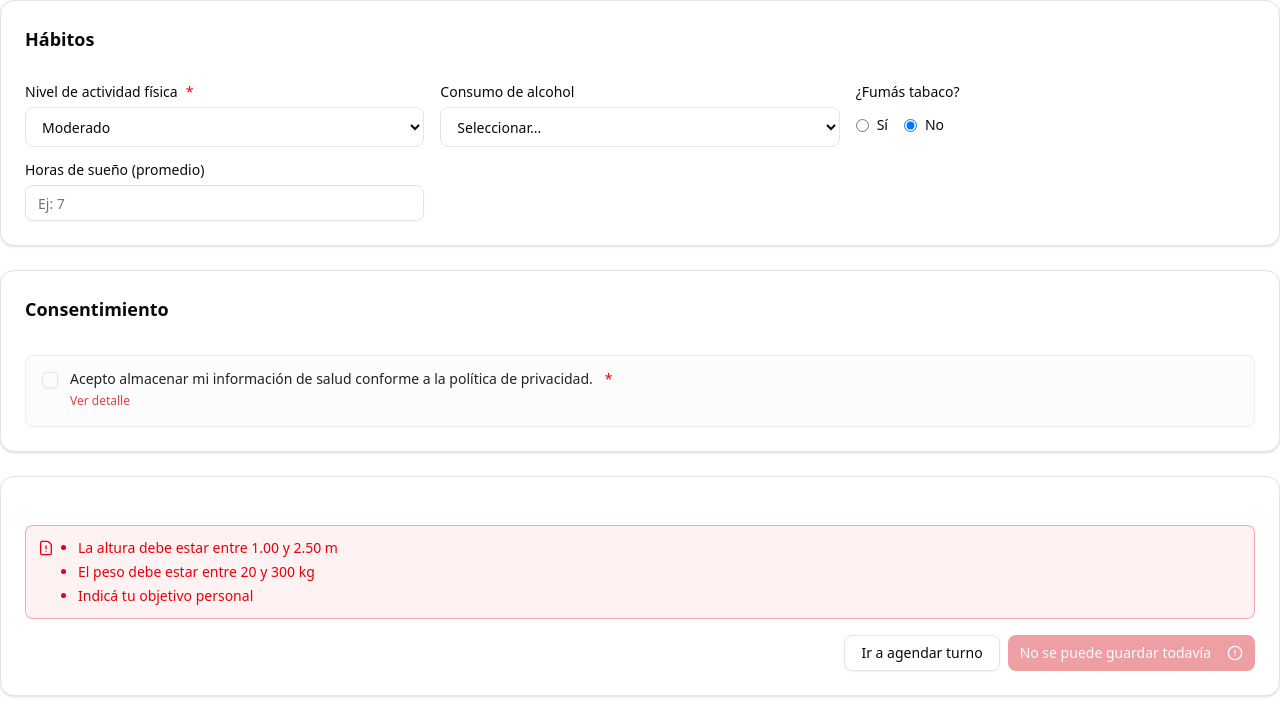
Test case: FichaSaludSocio - página de socio › T2-8: el botón "Ver detalle" del consentimiento abre el modal RGPD
(page scrolled)
Click the button "Ver detalle".
click(100, 401)  # box [70,393,130,409]
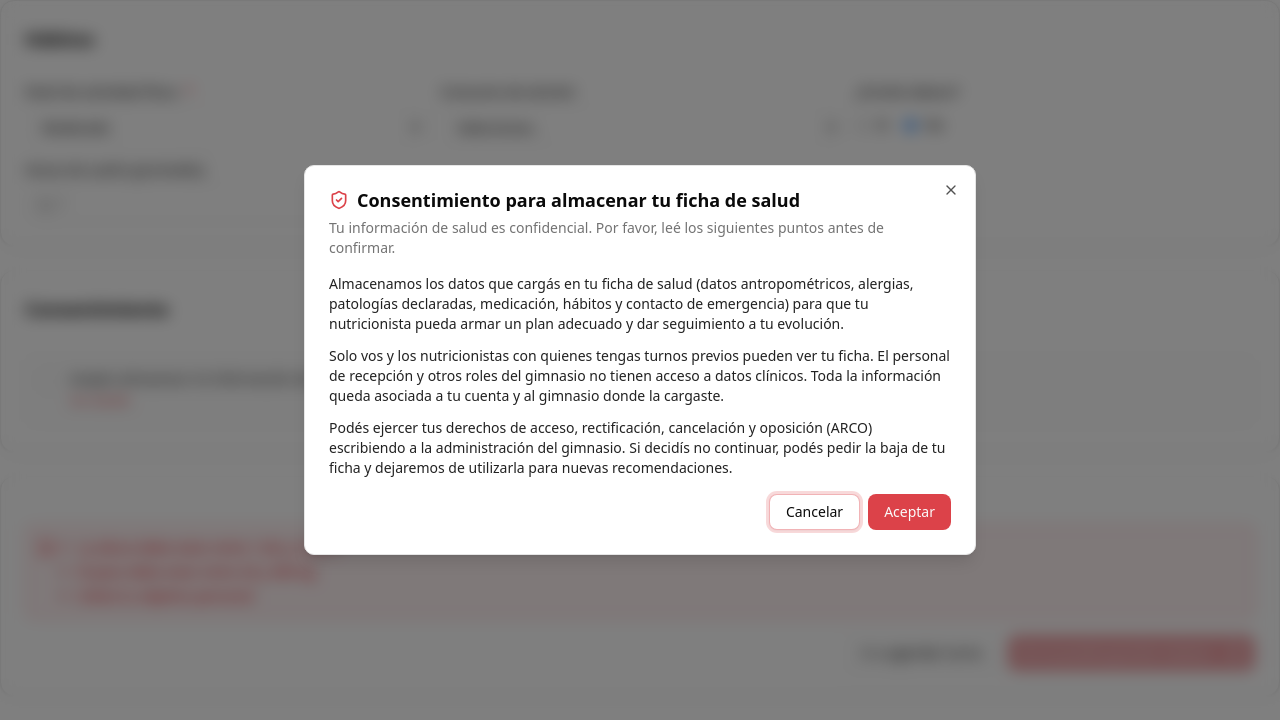
Result: the text "Consentimiento para almacenar tu ficha de salud" is shown at [357,191,800,209]
Result: the text "derechos de acceso" is shown at [329,418,946,477]
